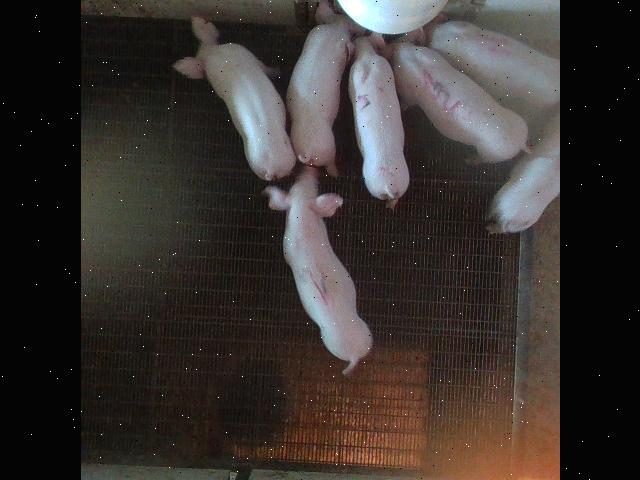pig-4: (428, 21, 558, 125)
pig-5: (381, 29, 528, 162)
